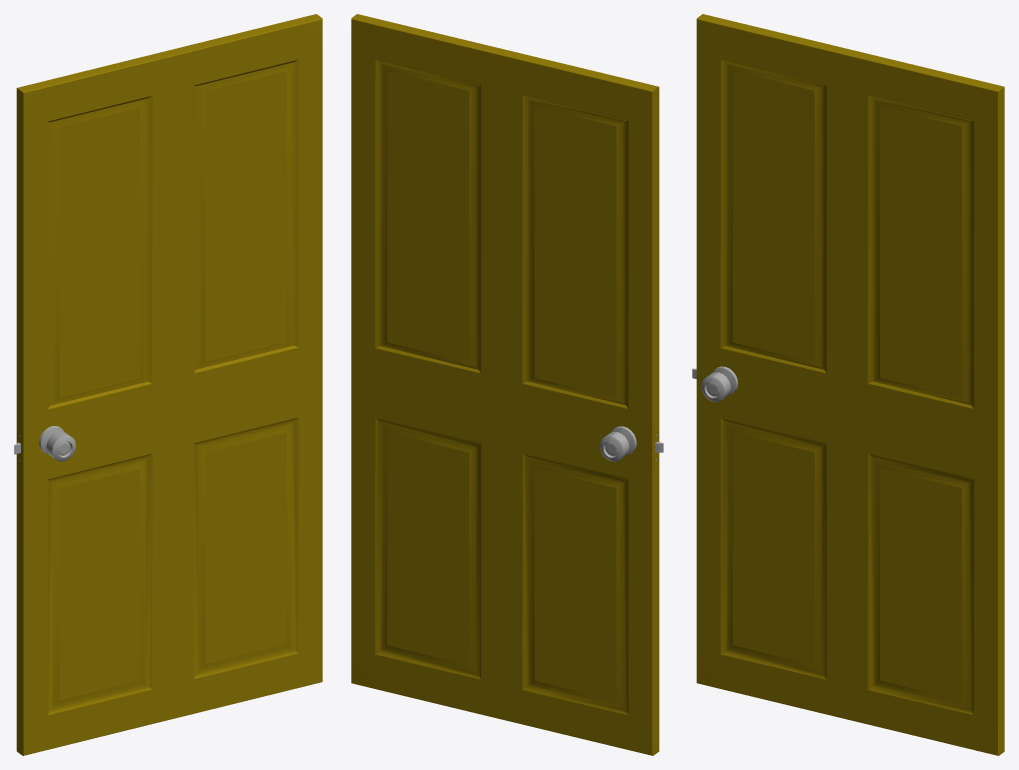
Rendered from InteriorDoor.FBX.
The picture shows the model from 3 angles, left to right: view 1: azimuth 30°, elevation 25°; view 2: azimuth 150°, elevation 25°; view 3: azimuth 330°, elevation 25°; orthographic projection.
Visible parts, largest first — view 1: Geo_Door_01, Doornob_A_02; view 2: Geo_Door_01, Doornob_A_01; view 3: Geo_Door_01, Doornob_A_02.
Boxes of the visible parts, x1,y1,x2,y2 form: Geo_Door_01: [16, 14, 322, 755]; Doornob_A_02: [39, 425, 75, 461]; Geo_Door_01: [351, 14, 659, 755]; Doornob_A_01: [599, 426, 636, 461]; Geo_Door_01: [696, 14, 1004, 755]; Doornob_A_02: [701, 366, 738, 402].
Size of the model in its own units: 88.64 by 183 by 16.73.
